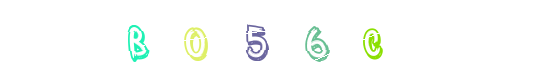5: (227, 0, 307, 80)
6: (243, 0, 323, 80)
B: (97, 0, 177, 80)
C: (333, 0, 413, 80)
O: (197, 0, 277, 80)
